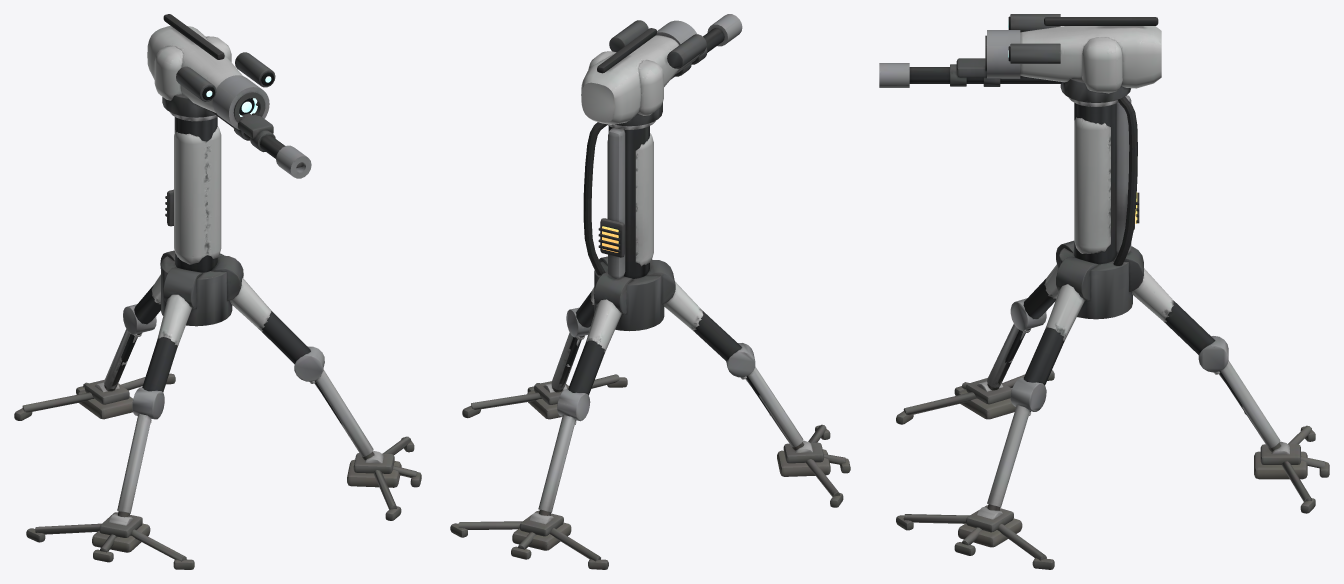
File: watcher.glb
3 views of the same model, side by side, from view 1: azimuth 30°, elevation 25°; view 2: azimuth 150°, elevation 25°; view 3: azimuth 270°, elevation 25° (orthographic). The views are drawn at different scales.
Parts seen in each view (by area): view 1: body, gun, foot_r, foot_l, foot_rear, shin_r, thigh_r, head, shin_l, thigh_l, shin_rear, hip_r (+2 smaller); view 2: body, gun, foot_rear, foot_r, shin_rear, thigh_rear, shin_r, thigh_r, foot_l, head, shin_l, hip_rear (+2 smaller); view 3: body, gun, foot_l, head, foot_rear, shin_l, foot_r, thigh_l, shin_rear, thigh_rear, shin_r, hip_l (+2 smaller).
Part boxes in pixels (bbox=[...]): body: bbox=[161, 112, 232, 326]; gun: bbox=[147, 14, 311, 178]; foot_r: bbox=[26, 512, 194, 569]; foot_l: bbox=[347, 436, 421, 520]; foot_rear: bbox=[14, 373, 175, 420]; shin_r: bbox=[117, 387, 164, 517]; thigh_r: bbox=[142, 294, 191, 392]; head: bbox=[154, 36, 231, 117]; shin_l: bbox=[294, 346, 374, 460]; thigh_l: bbox=[229, 278, 310, 363]; shin_rear: bbox=[104, 304, 156, 391]; hip_r: bbox=[163, 267, 202, 308]; body: bbox=[583, 121, 664, 331]; gun: bbox=[581, 14, 742, 124]; foot_rear: bbox=[450, 510, 608, 569]; foot_r: bbox=[777, 424, 850, 507]; shin_rear: bbox=[538, 389, 590, 515]; thigh_rear: bbox=[568, 299, 621, 395]; shin_r: bbox=[726, 343, 803, 450]; thigh_r: bbox=[663, 281, 741, 361]; foot_l: bbox=[462, 374, 627, 419]; head: bbox=[588, 51, 663, 126]; shin_l: bbox=[551, 307, 590, 392]; hip_rear: bbox=[594, 272, 633, 314]; body: bbox=[1059, 95, 1137, 319]; gun: bbox=[879, 14, 1161, 88]; foot_l: bbox=[896, 505, 1054, 569]; head: bbox=[1060, 37, 1130, 102]; foot_rear: bbox=[1254, 425, 1329, 513]; shin_l: bbox=[987, 377, 1046, 510]; foot_r: bbox=[896, 370, 1054, 424]; thigh_l: bbox=[1024, 284, 1084, 385]; shin_rear: bbox=[1198, 336, 1280, 451]; thigh_rear: bbox=[1132, 268, 1215, 354]; shin_r: bbox=[987, 298, 1046, 390]; hip_l: bbox=[1056, 256, 1098, 300].
Size of what is drawn, in the model's own units: 2.73 by 3 by 2.68.
Materials: 3 (1 with a texture image).
